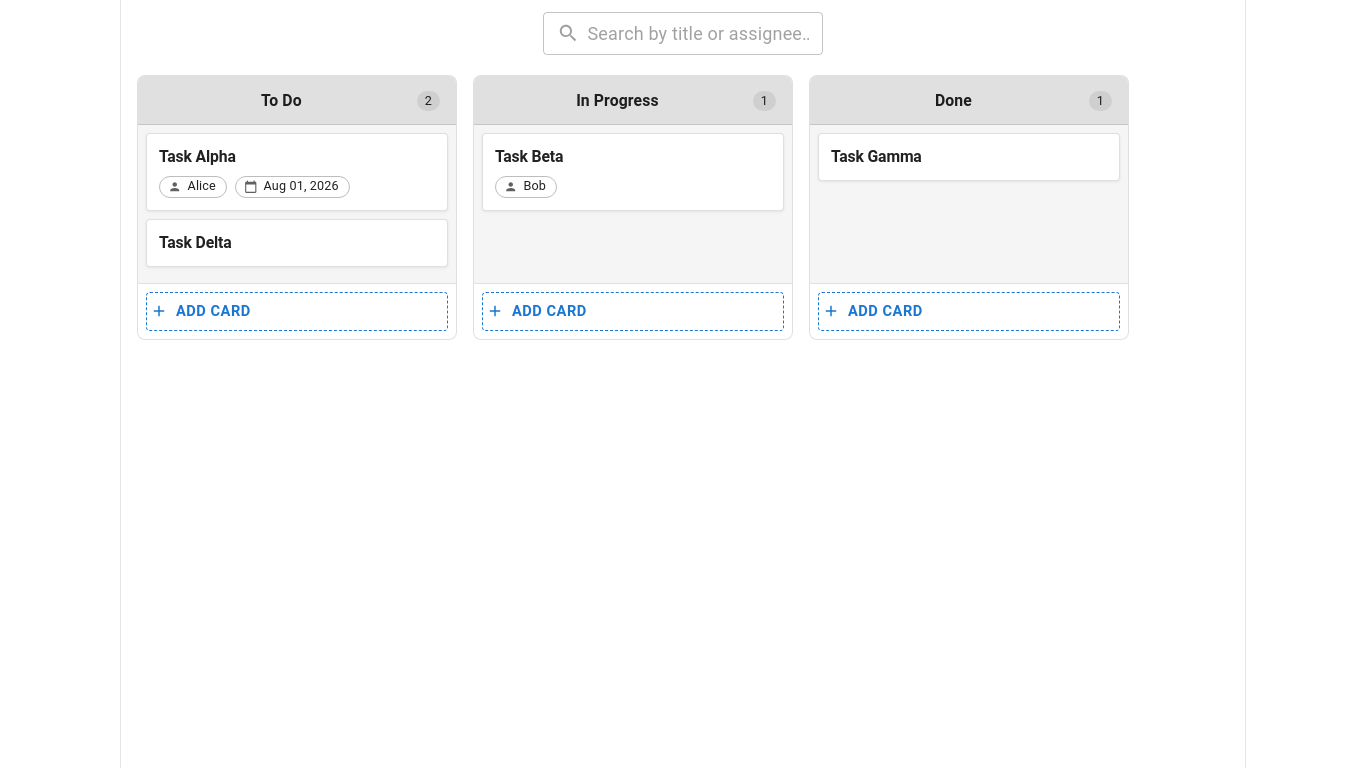
KanbanBoard › filters cards via the built-in search field
The width and height of the screenshot is (1366, 768).
Type "alpha" into the field with placeholder "Search by title or assignee…" at coordinates (705, 33), box 588,12 -> 823,55
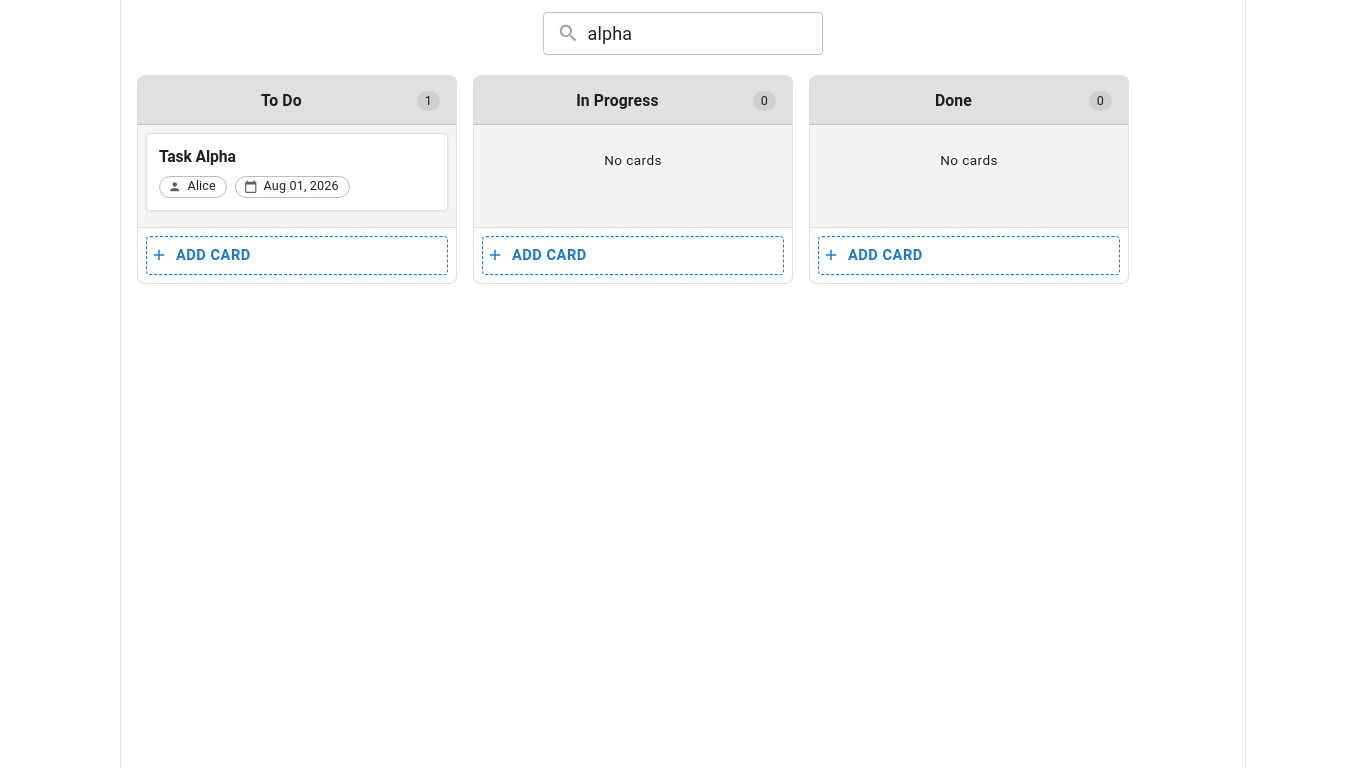
Check: the text "Task Alpha" is shown, box 159,146 -> 236,168
Check: the button "Task Beta" is gone
